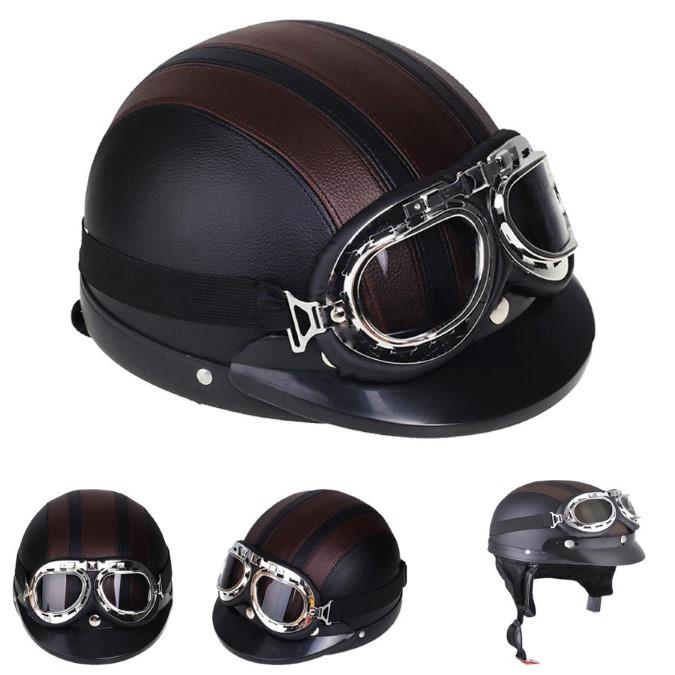with_helmet: (73, 14, 598, 437), (211, 492, 406, 667), (10, 488, 175, 662), (487, 477, 649, 571)
